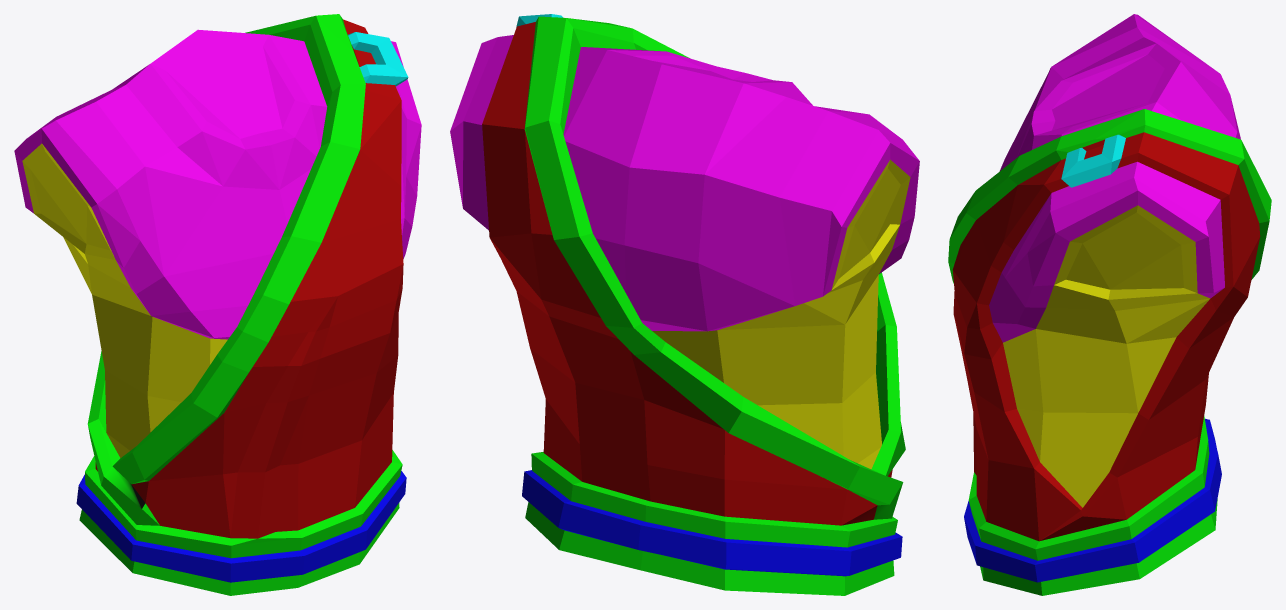
Rendered from Chr_Torso_Male_Static_08.fbx.
The picture shows the model from 3 angles, left to right: view 1: azimuth 30°, elevation 25°; view 2: azimuth 150°, elevation 25°; view 3: azimuth 270°, elevation 25°; orthographic projection. The views are drawn at different scales.
Visible parts, largest first — view 1: Chr_Torso_Male_08; view 2: Chr_Torso_Male_08; view 3: Chr_Torso_Male_08.
Boxes of the visible parts, x1,y1,x2,y2 form: Chr_Torso_Male_08: (14,14,421,595); Chr_Torso_Male_08: (450,14,919,595); Chr_Torso_Male_08: (948,14,1271,595).
Size of the model in its own units: 50.25 by 66.05 by 39.13.
